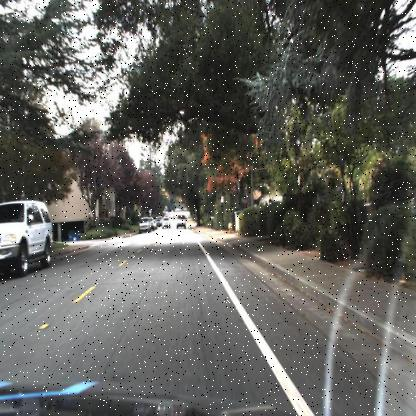car: (0, 197, 55, 279), (136, 212, 151, 235), (174, 209, 188, 232), (161, 218, 171, 230)
